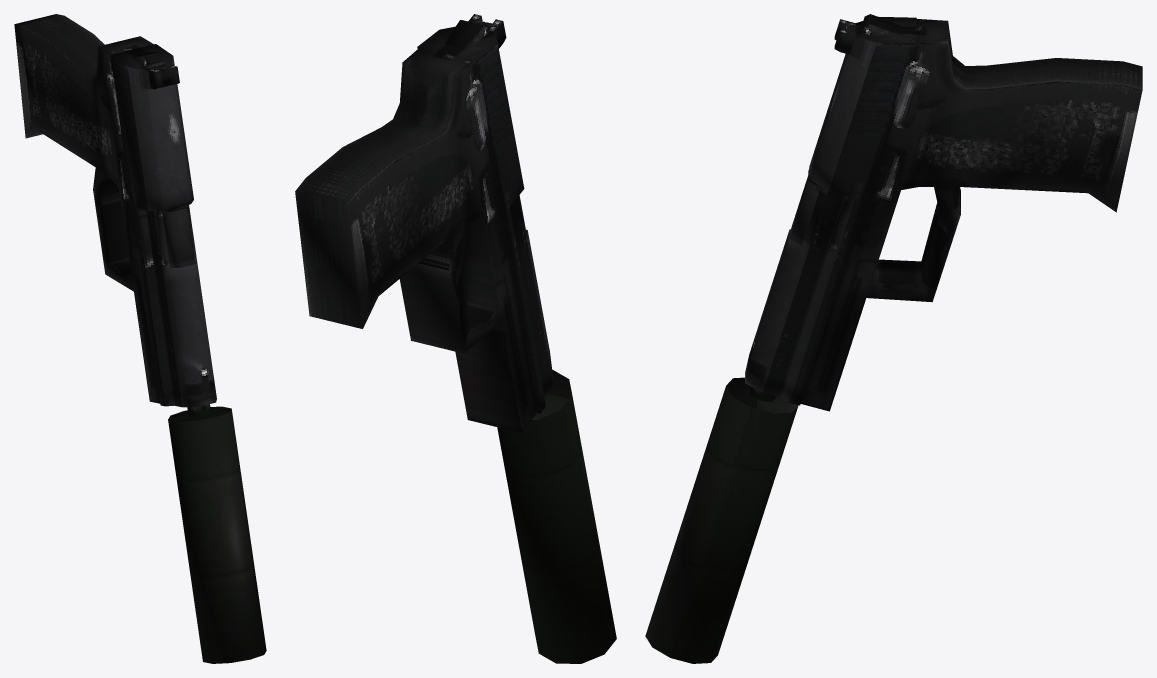
The picture shows the model from 3 angles, left to right: view 1: azimuth 30°, elevation 25°; view 2: azimuth 150°, elevation 25°; view 3: azimuth 270°, elevation 25°; orthographic projection. The views are drawn at different scales.
Parts seen in each view (by area): view 1: glock_reference_2; view 2: glock_reference_2; view 3: glock_reference_2.
Part boxes in pixels (x1,y1,x2,y2): glock_reference_2: (14,14,266,663); glock_reference_2: (295,14,616,663); glock_reference_2: (645,14,1142,663).
Size of the model in its own units: 1.45 by 14.11 by 9.99.
1 material, 1 textured.
